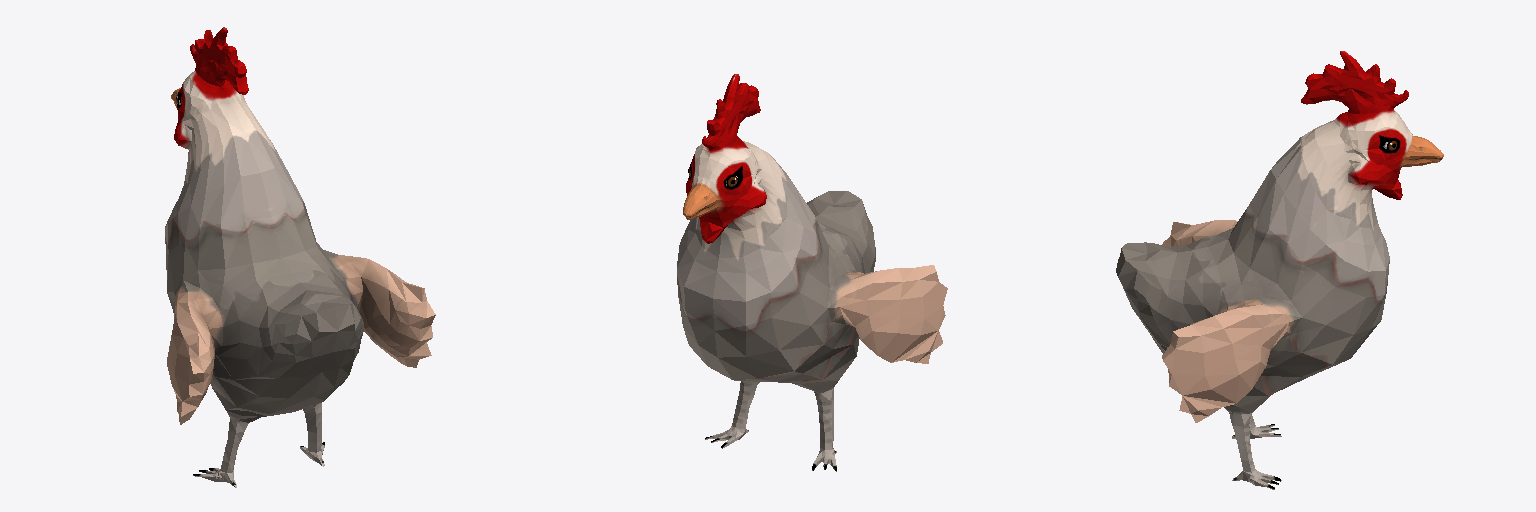
3 views of the same model, side by side, from view 1: azimuth 30°, elevation 25°; view 2: azimuth 150°, elevation 25°; view 3: azimuth 270°, elevation 25° (orthographic).
Visible parts, largest first — view 1: chickenF; view 2: chickenF; view 3: chickenF.
Boxes of the visible parts, x1,y1,x2,y2 form: chickenF: [165, 27, 435, 487]; chickenF: [677, 74, 947, 471]; chickenF: [1116, 51, 1443, 489].
Size of the model in its own units: 480 by 751 by 544.
Materials: 1 (1 with a texture image).